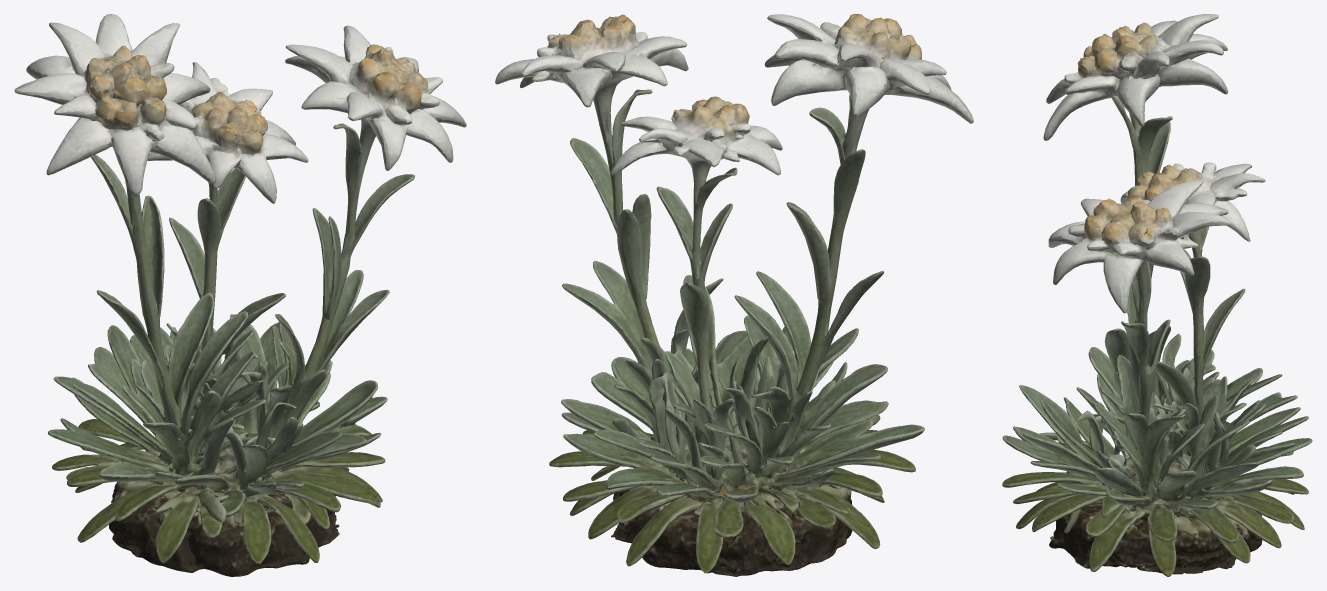
Rendered from edelweiss-v20.glb.
3 renders of one model, left to right at view 1: azimuth 30°, elevation 25°; view 2: azimuth 150°, elevation 25°; view 3: azimuth 270°, elevation 25°, orthographic. The views are drawn at different scales.
Parts seen in each view (by area): view 1: world; view 2: world; view 3: world.
Boxes of the visible parts, x1,y1,x2,y2 form: world: [14, 14, 466, 576]; world: [495, 14, 973, 576]; world: [1002, 14, 1312, 576].
Bounding box in the file's own units: 0.1922 × 0.2199 × 0.134.
Materials: 1 (1 with a texture image).
